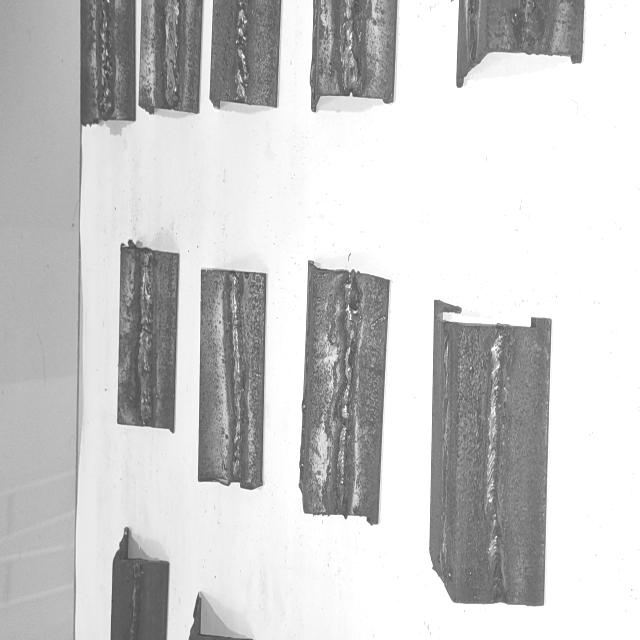Bad Weld: (100, 0, 113, 115), (234, 0, 248, 98)
Defect: (100, 0, 114, 115), (519, 0, 550, 50), (235, 0, 249, 101)
Good Weld: (332, 276, 361, 512), (486, 332, 508, 597), (227, 273, 244, 478), (136, 249, 154, 423), (165, 0, 179, 103), (342, 0, 354, 89)
